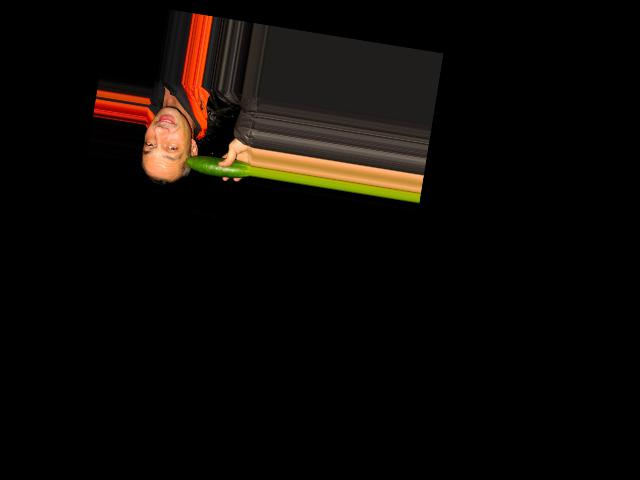cucumber: (183, 152, 251, 181)
